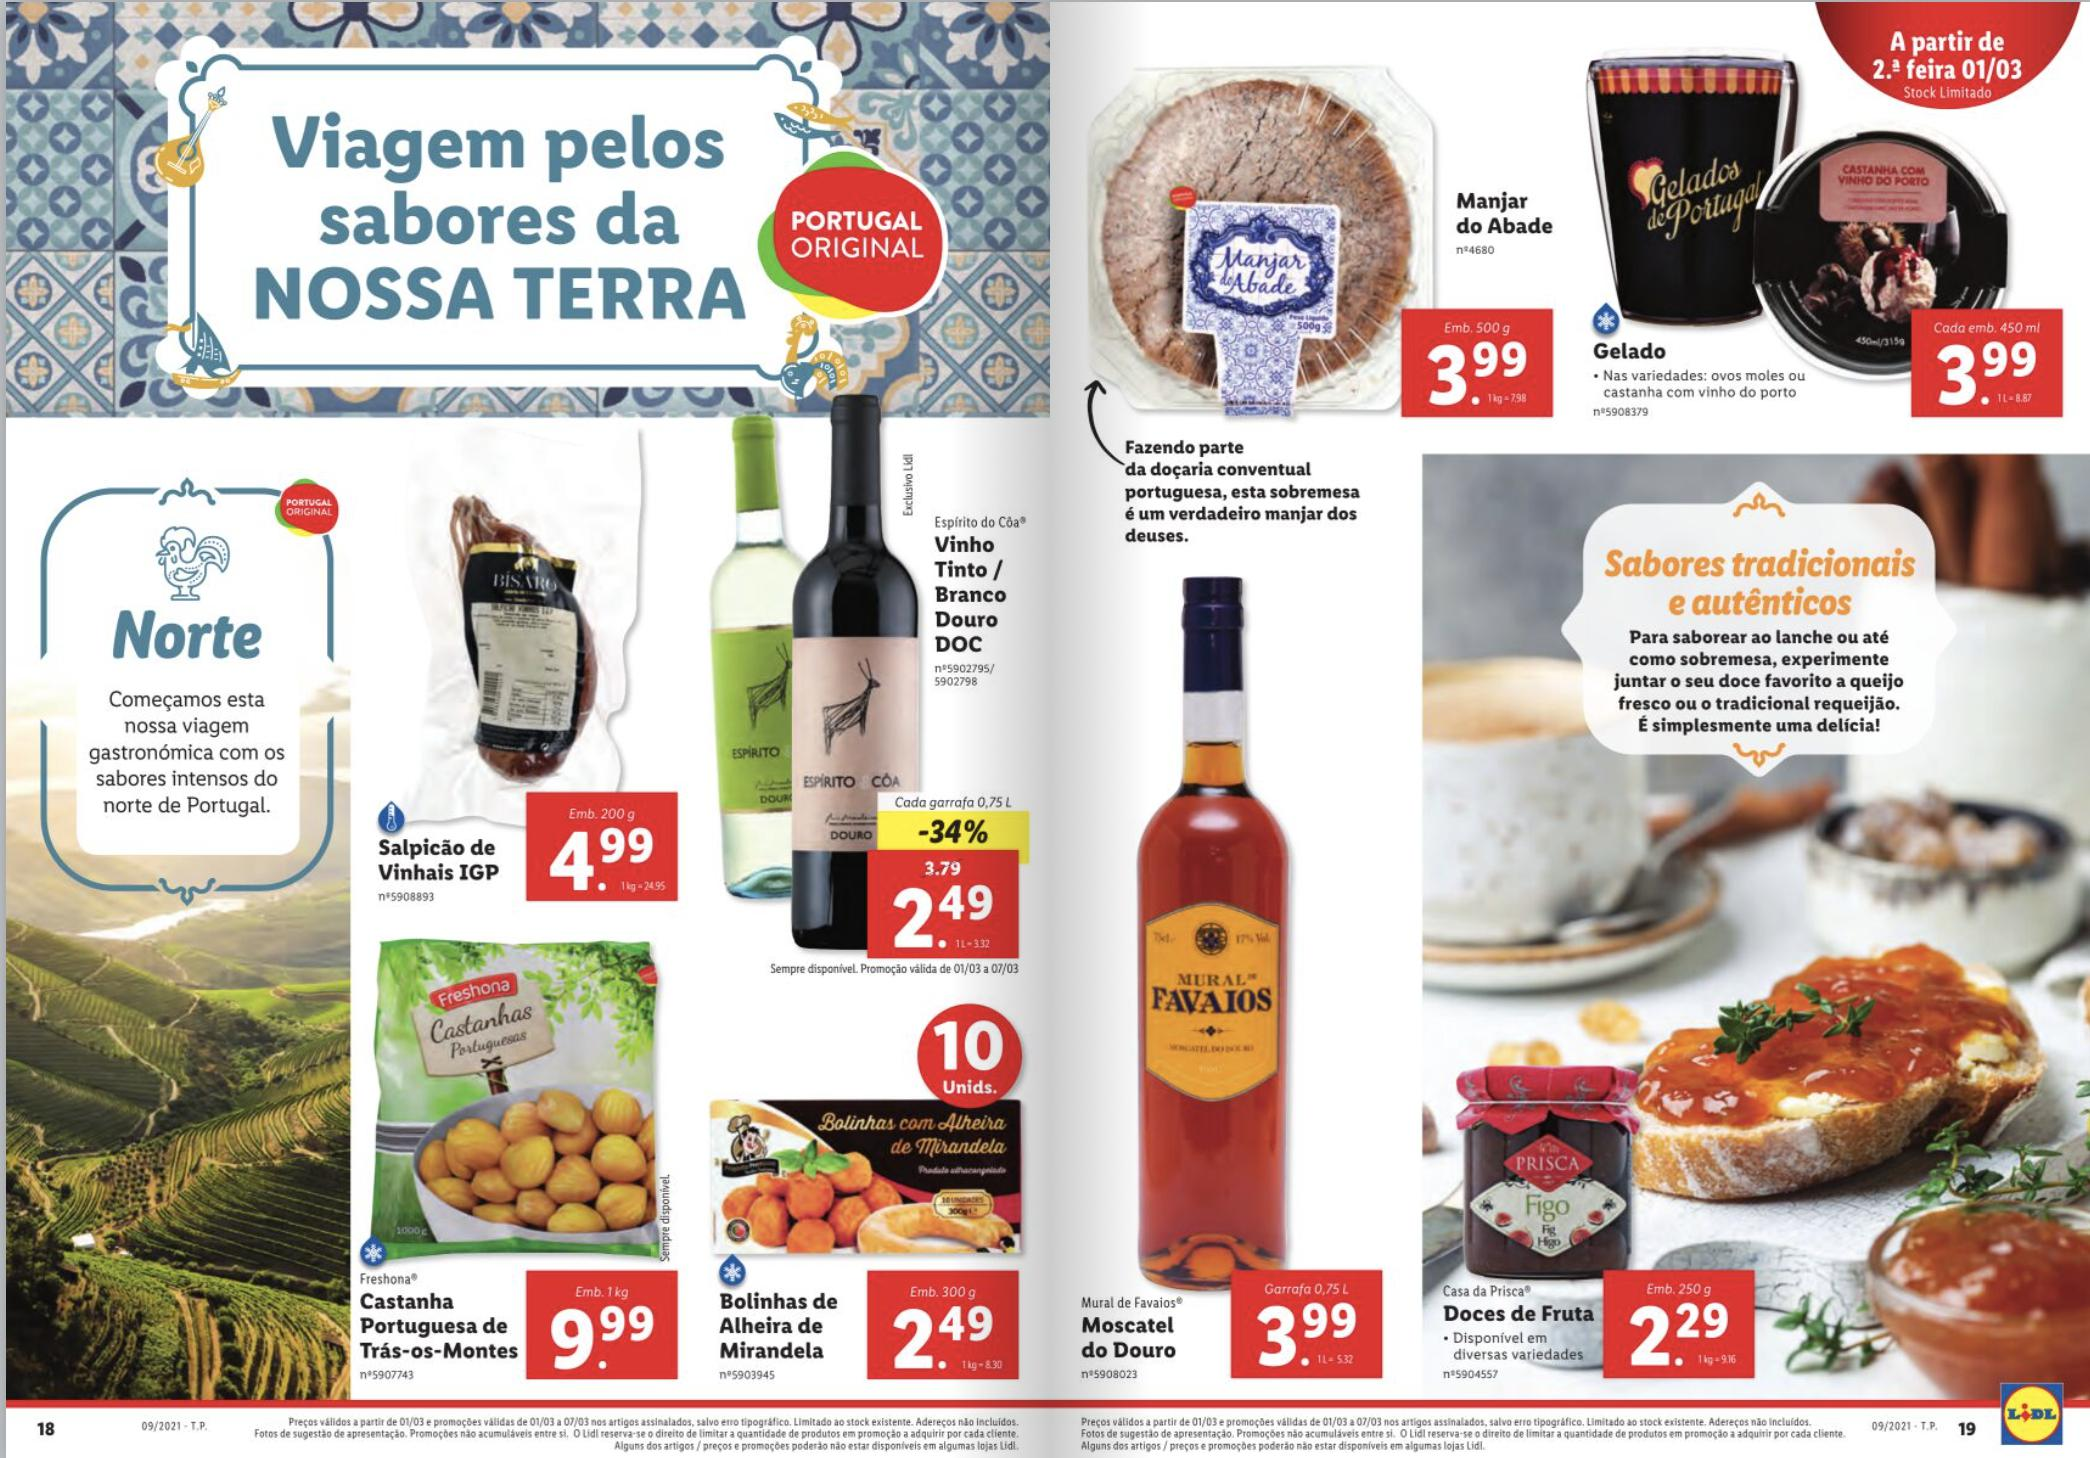name: (918, 524, 1018, 656), (361, 1286, 524, 1364), (711, 1290, 839, 1367), (368, 835, 507, 886), (1433, 1291, 1601, 1333), (1442, 186, 1564, 238), (1067, 1312, 1180, 1363), (1583, 337, 1683, 372)
price: (542, 1294, 665, 1377), (1621, 1291, 1749, 1371), (542, 821, 672, 896), (883, 877, 1004, 955), (1239, 1294, 1359, 1371), (889, 1298, 1001, 1377), (1926, 337, 2039, 411), (1428, 337, 1536, 410)
product: (1045, 545, 1415, 1409), (1048, 27, 1574, 434), (718, 386, 1058, 974), (1571, 48, 2084, 437), (351, 928, 692, 1391), (365, 445, 699, 908), (1391, 1036, 1807, 1394), (715, 986, 1039, 1394)
promotion: (907, 808, 993, 856)
